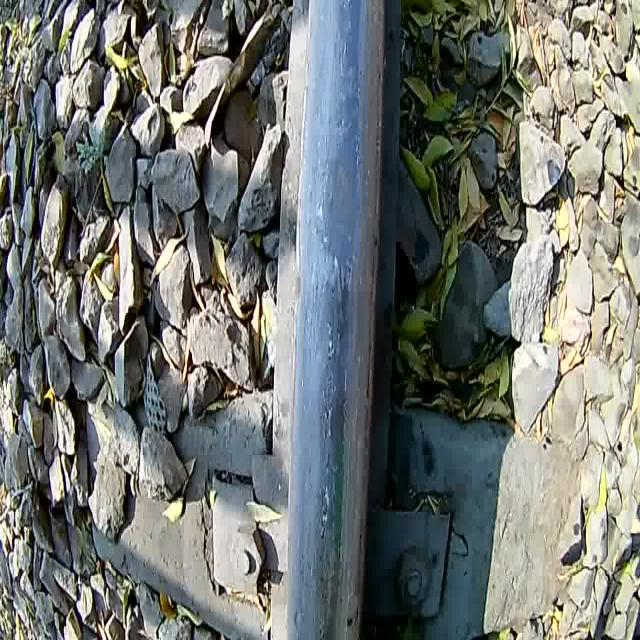Squats: (283, 128, 392, 278)
